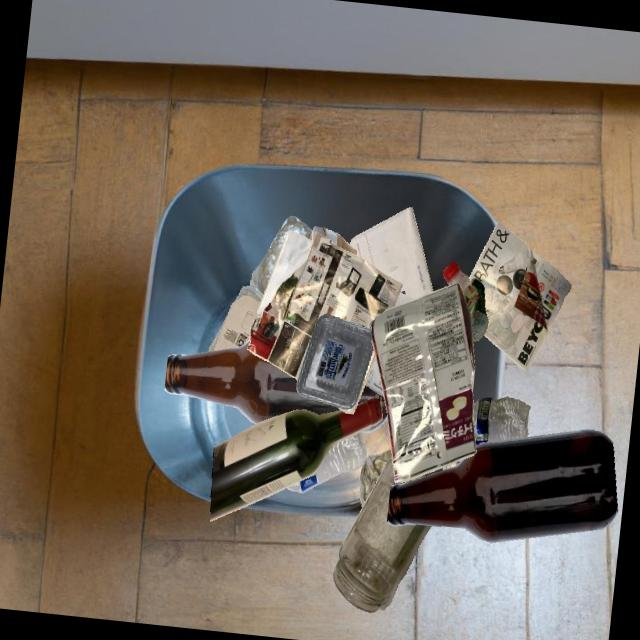cardboard: (305, 226, 357, 255)
glass: (387, 429, 617, 542), (209, 396, 382, 521), (332, 456, 432, 612), (164, 339, 341, 424)
paper: (247, 230, 402, 379), (468, 221, 571, 371), (261, 292, 399, 384), (349, 207, 433, 299), (256, 230, 312, 312), (213, 295, 260, 351), (359, 449, 391, 507), (442, 459, 461, 470)
plastic: (371, 283, 476, 482), (296, 313, 373, 409), (234, 215, 311, 302), (286, 431, 366, 492), (442, 261, 488, 341), (472, 396, 529, 446)
